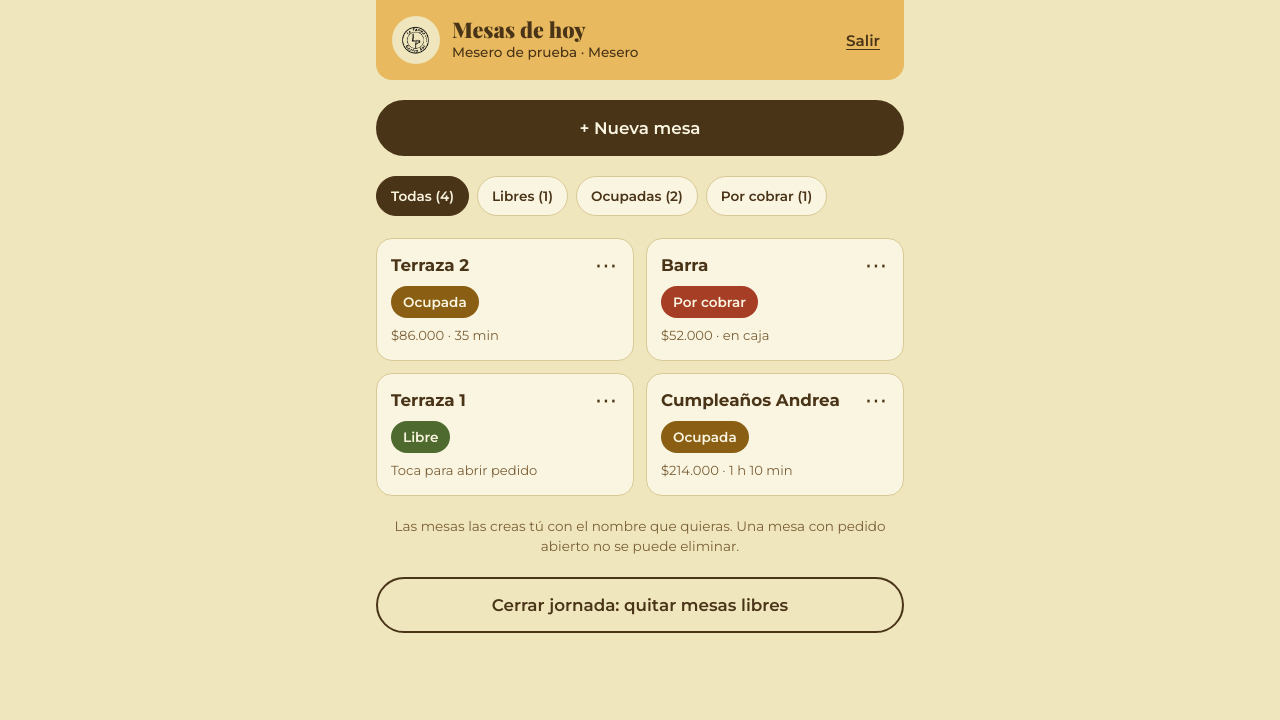
Test: Mesas de hoy (HU03) › renombra una mesa libre desde sus opciones
Expected: the text "Terraza 1" is shown, [391,388,466,413]
Click the button named "Opciones de Terraza 1": (606, 401) [584,379,628,423]
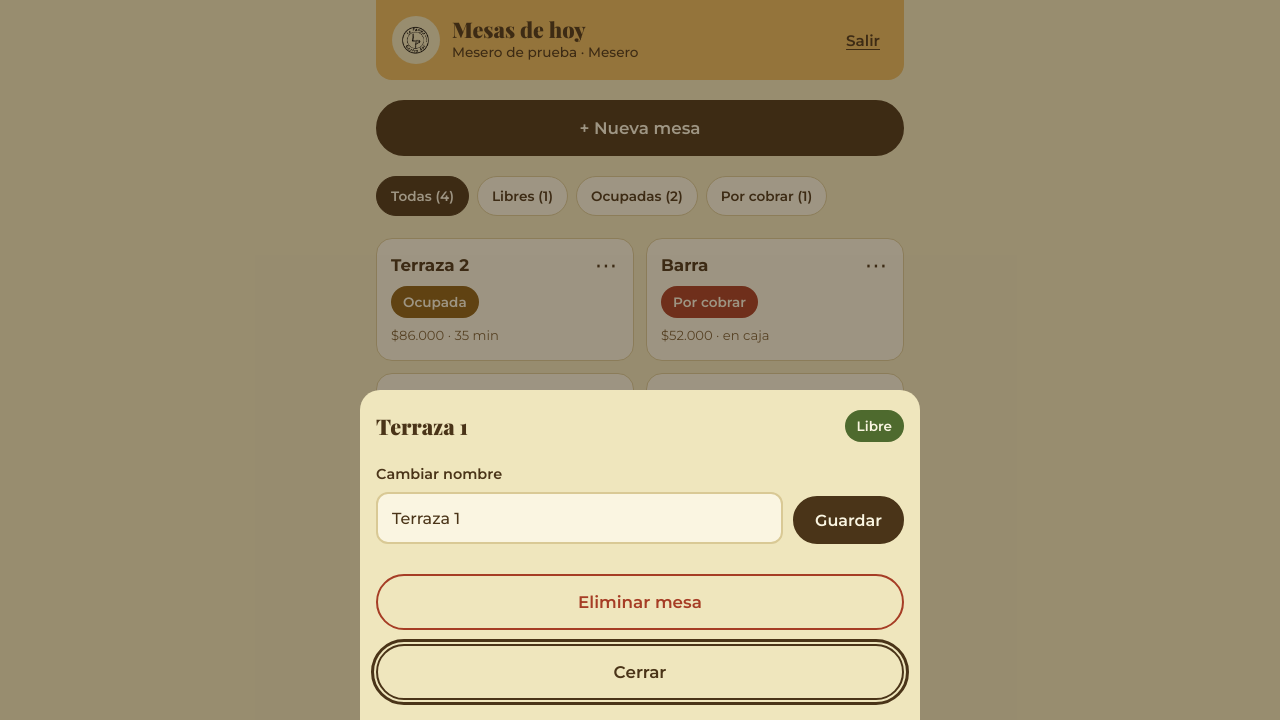
Replace the text in the field labelled "Cambiar nombre" with "Ventana": (580, 518) [376,492,783,544]
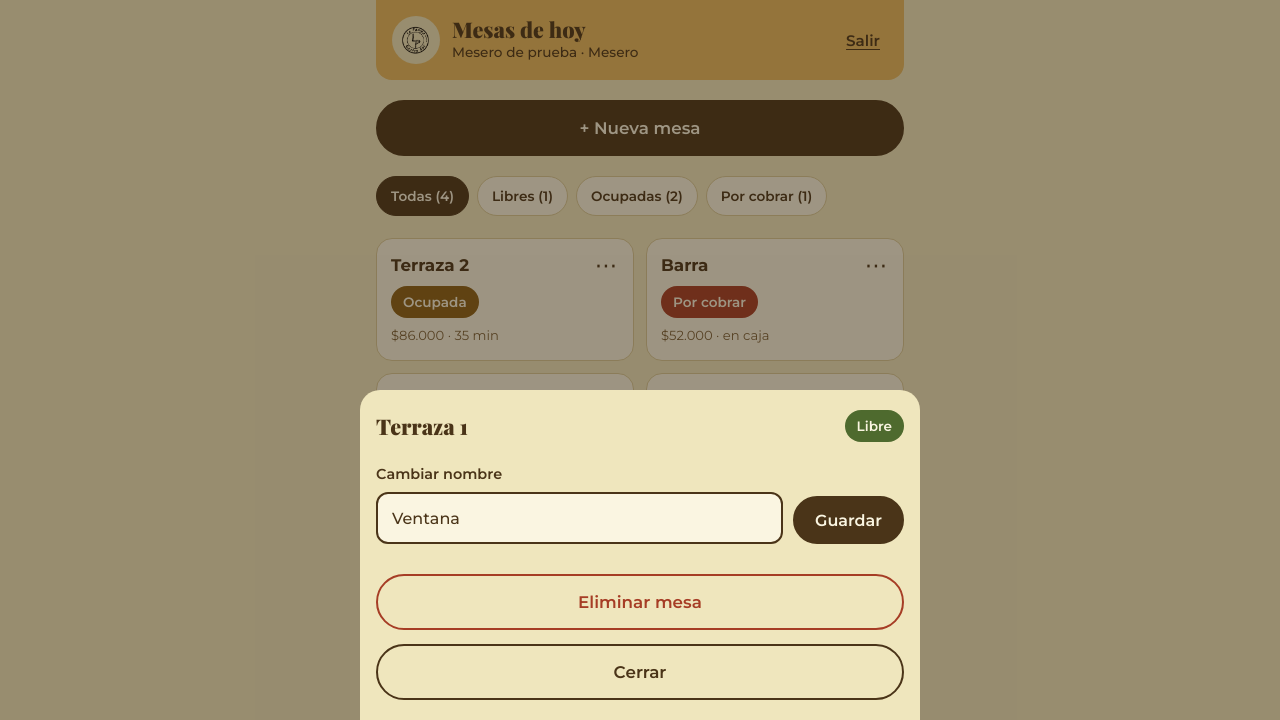
Click the button "Guardar": (848, 520) [793,496,904,544]
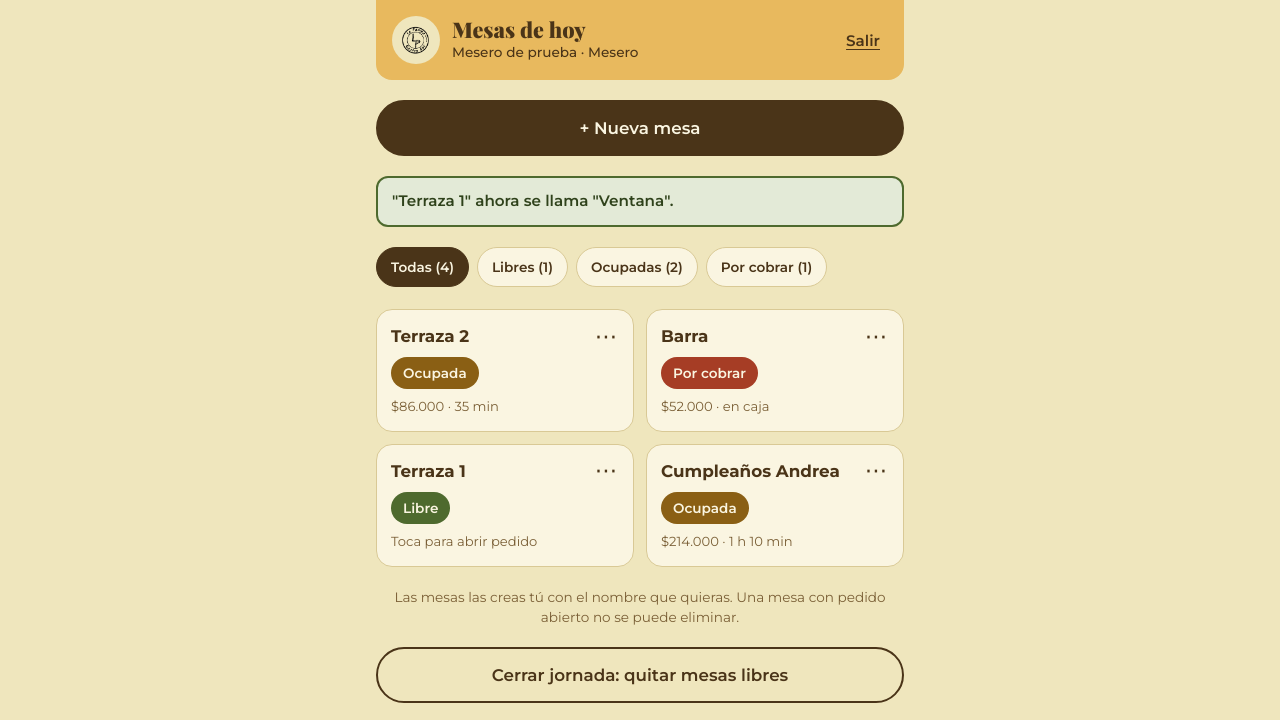
Expected: the message reads "\"Terraza 1\" ahora se llama \"Ventana\".", [392,191,673,210]
